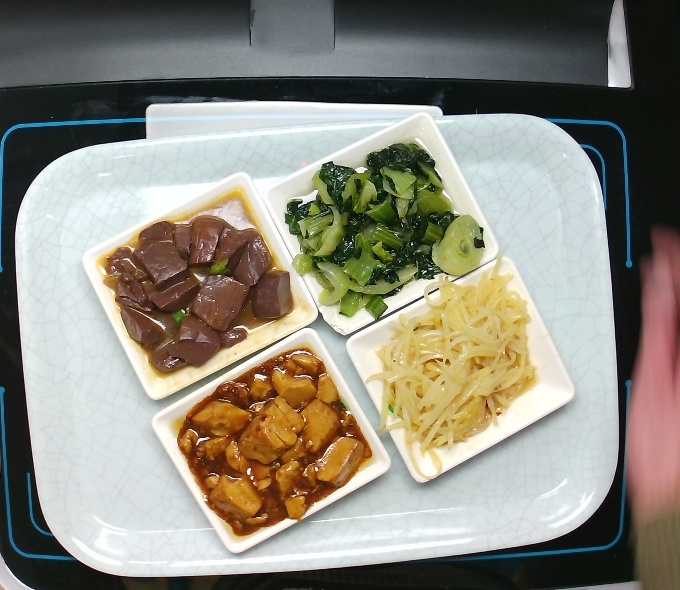wcq-MaPoDouFu: (161, 346, 373, 537)
wcq-NiuXue: (99, 205, 301, 381)
wcq-TuDouSi: (350, 268, 558, 474)
wcq-YouDongCai: (293, 139, 491, 321)
